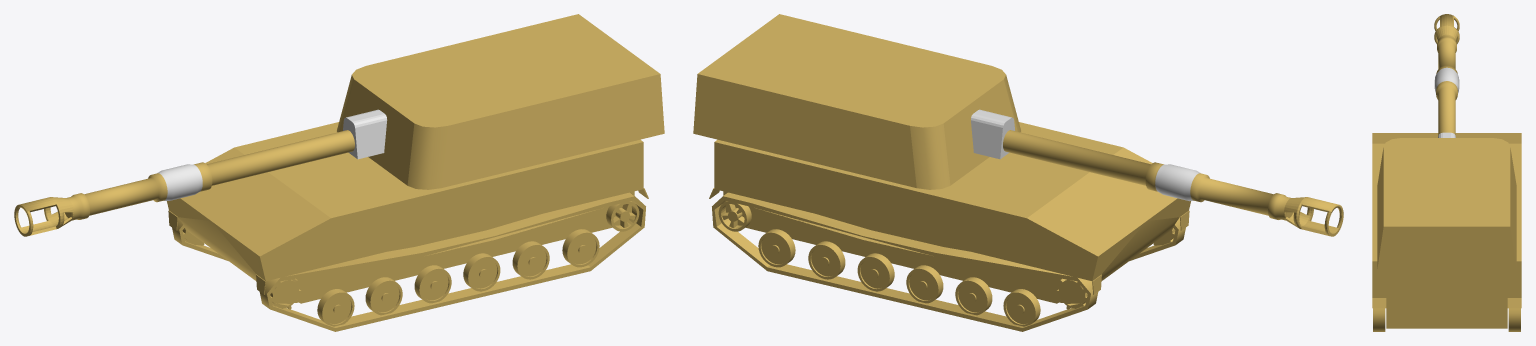
Rendered from artilery.fbx.
3 renders of one model, left to right at view 1: azimuth 30°, elevation 25°; view 2: azimuth 150°, elevation 25°; view 3: azimuth 270°, elevation 25°, orthographic. The views are drawn at different scales.
Visible parts, largest first — view 1: Hull, Turret, Cannon_LOD0, Cannon.001, Hull.008_LOD0, Hull.006_LOD0, Hull.007_LOD0, Hull.005_LOD0, Hull.004_LOD0, Hull.003_LOD0, Hull.001_LOD0, Hull.002_LOD0; view 2: Hull, Turret, Cannon_LOD0, Cannon.001, Hull.007_LOD0, Hull.008_LOD0, Hull.006_LOD0, Hull.005_LOD0, Hull.004_LOD0, Hull.003_LOD0, Hull.001_LOD0, Hull.002_LOD0; view 3: Turret, Hull, Cannon_LOD0.
Boxes of the visible parts, <box> form: Hull: <box>167,122,648,331</box>; Turret: <box>337,14,664,189</box>; Cannon_LOD0: <box>14,130,354,236</box>; Cannon.001: <box>343,109,387,159</box>; Hull.008_LOD0: <box>562,229,599,267</box>; Hull.006_LOD0: <box>463,253,500,291</box>; Hull.007_LOD0: <box>512,241,549,279</box>; Hull.005_LOD0: <box>414,265,451,303</box>; Hull.004_LOD0: <box>365,277,402,315</box>; Hull.003_LOD0: <box>317,289,354,326</box>; Hull.001_LOD0: <box>182,227,301,309</box>; Hull.002_LOD0: <box>606,201,639,231</box>; Hull: <box>709,122,1190,331</box>; Turret: <box>693,14,1020,189</box>; Cannon_LOD0: <box>1003,130,1343,236</box>; Cannon.001: <box>971,109,1014,159</box>; Hull.007_LOD0: <box>808,241,845,279</box>; Hull.008_LOD0: <box>758,229,795,267</box>; Hull.006_LOD0: <box>857,253,894,291</box>; Hull.005_LOD0: <box>906,265,943,303</box>; Hull.004_LOD0: <box>955,277,992,315</box>; Hull.003_LOD0: <box>1003,289,1040,326</box>; Hull.001_LOD0: <box>1056,227,1175,309</box>; Hull.002_LOD0: <box>718,201,751,231</box>; Turret: <box>1377,138,1516,270</box>; Hull: <box>1372,133,1521,331</box>; Cannon_LOD0: <box>1434,14,1459,134</box>.
Size of what is drawn, in the model's own units: 1177 by 327 by 330.
